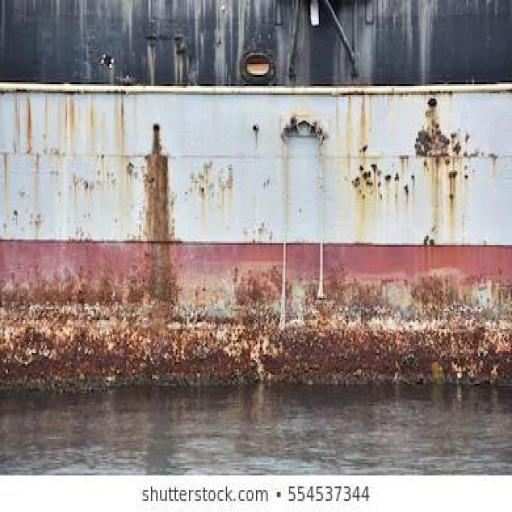corrosion: (0, 289, 511, 382), (142, 124, 170, 246), (416, 96, 448, 150), (152, 252, 169, 296)
